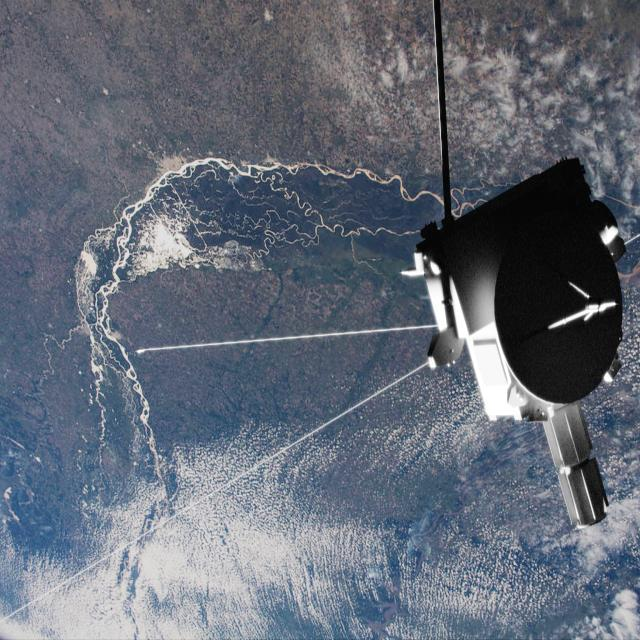satellite: (361, 123, 640, 543)
